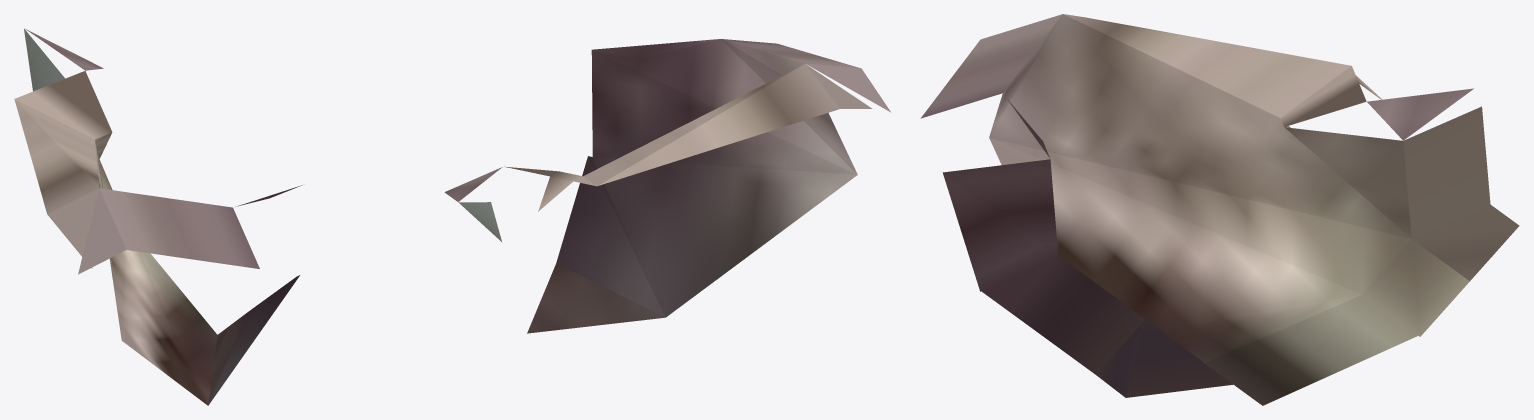
3 renders of one model, left to right at view 1: azimuth 30°, elevation 25°; view 2: azimuth 150°, elevation 25°; view 3: azimuth 270°, elevation 25°, orthographic. The views are drawn at different scales.
Parts seen in each view (by area): view 1: Mesh_0; view 2: Mesh_0; view 3: Mesh_0.
Part boxes in pixels (x1=…): Mesh_0: x1=14, y1=28, x2=302, y2=405; Mesh_0: x1=444, y1=39, x2=891, y2=333; Mesh_0: x1=920, y1=14, x2=1519, y2=405.
Bounding box in the file's own units: 2.05 × 2.15 × 3.89.
Materials: 1 (1 with a texture image).
